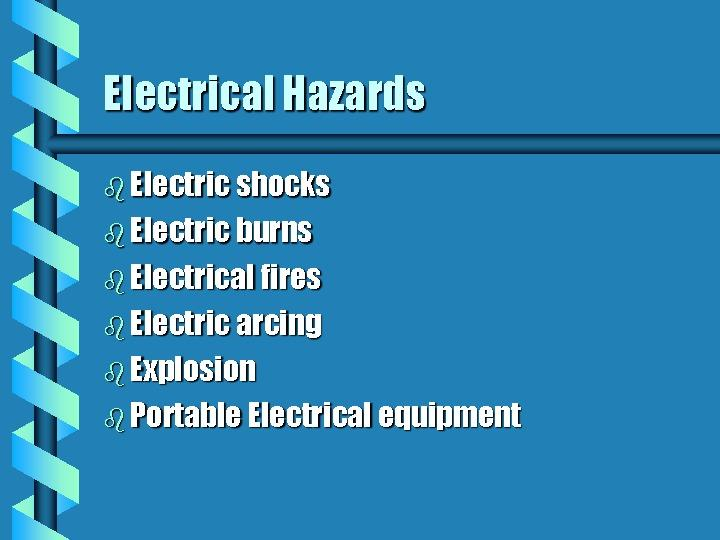paragraph: (122, 163, 568, 463)
title: (102, 54, 444, 122)
